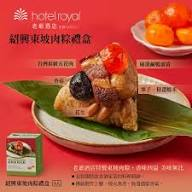zongzi: (54, 43, 137, 130)
